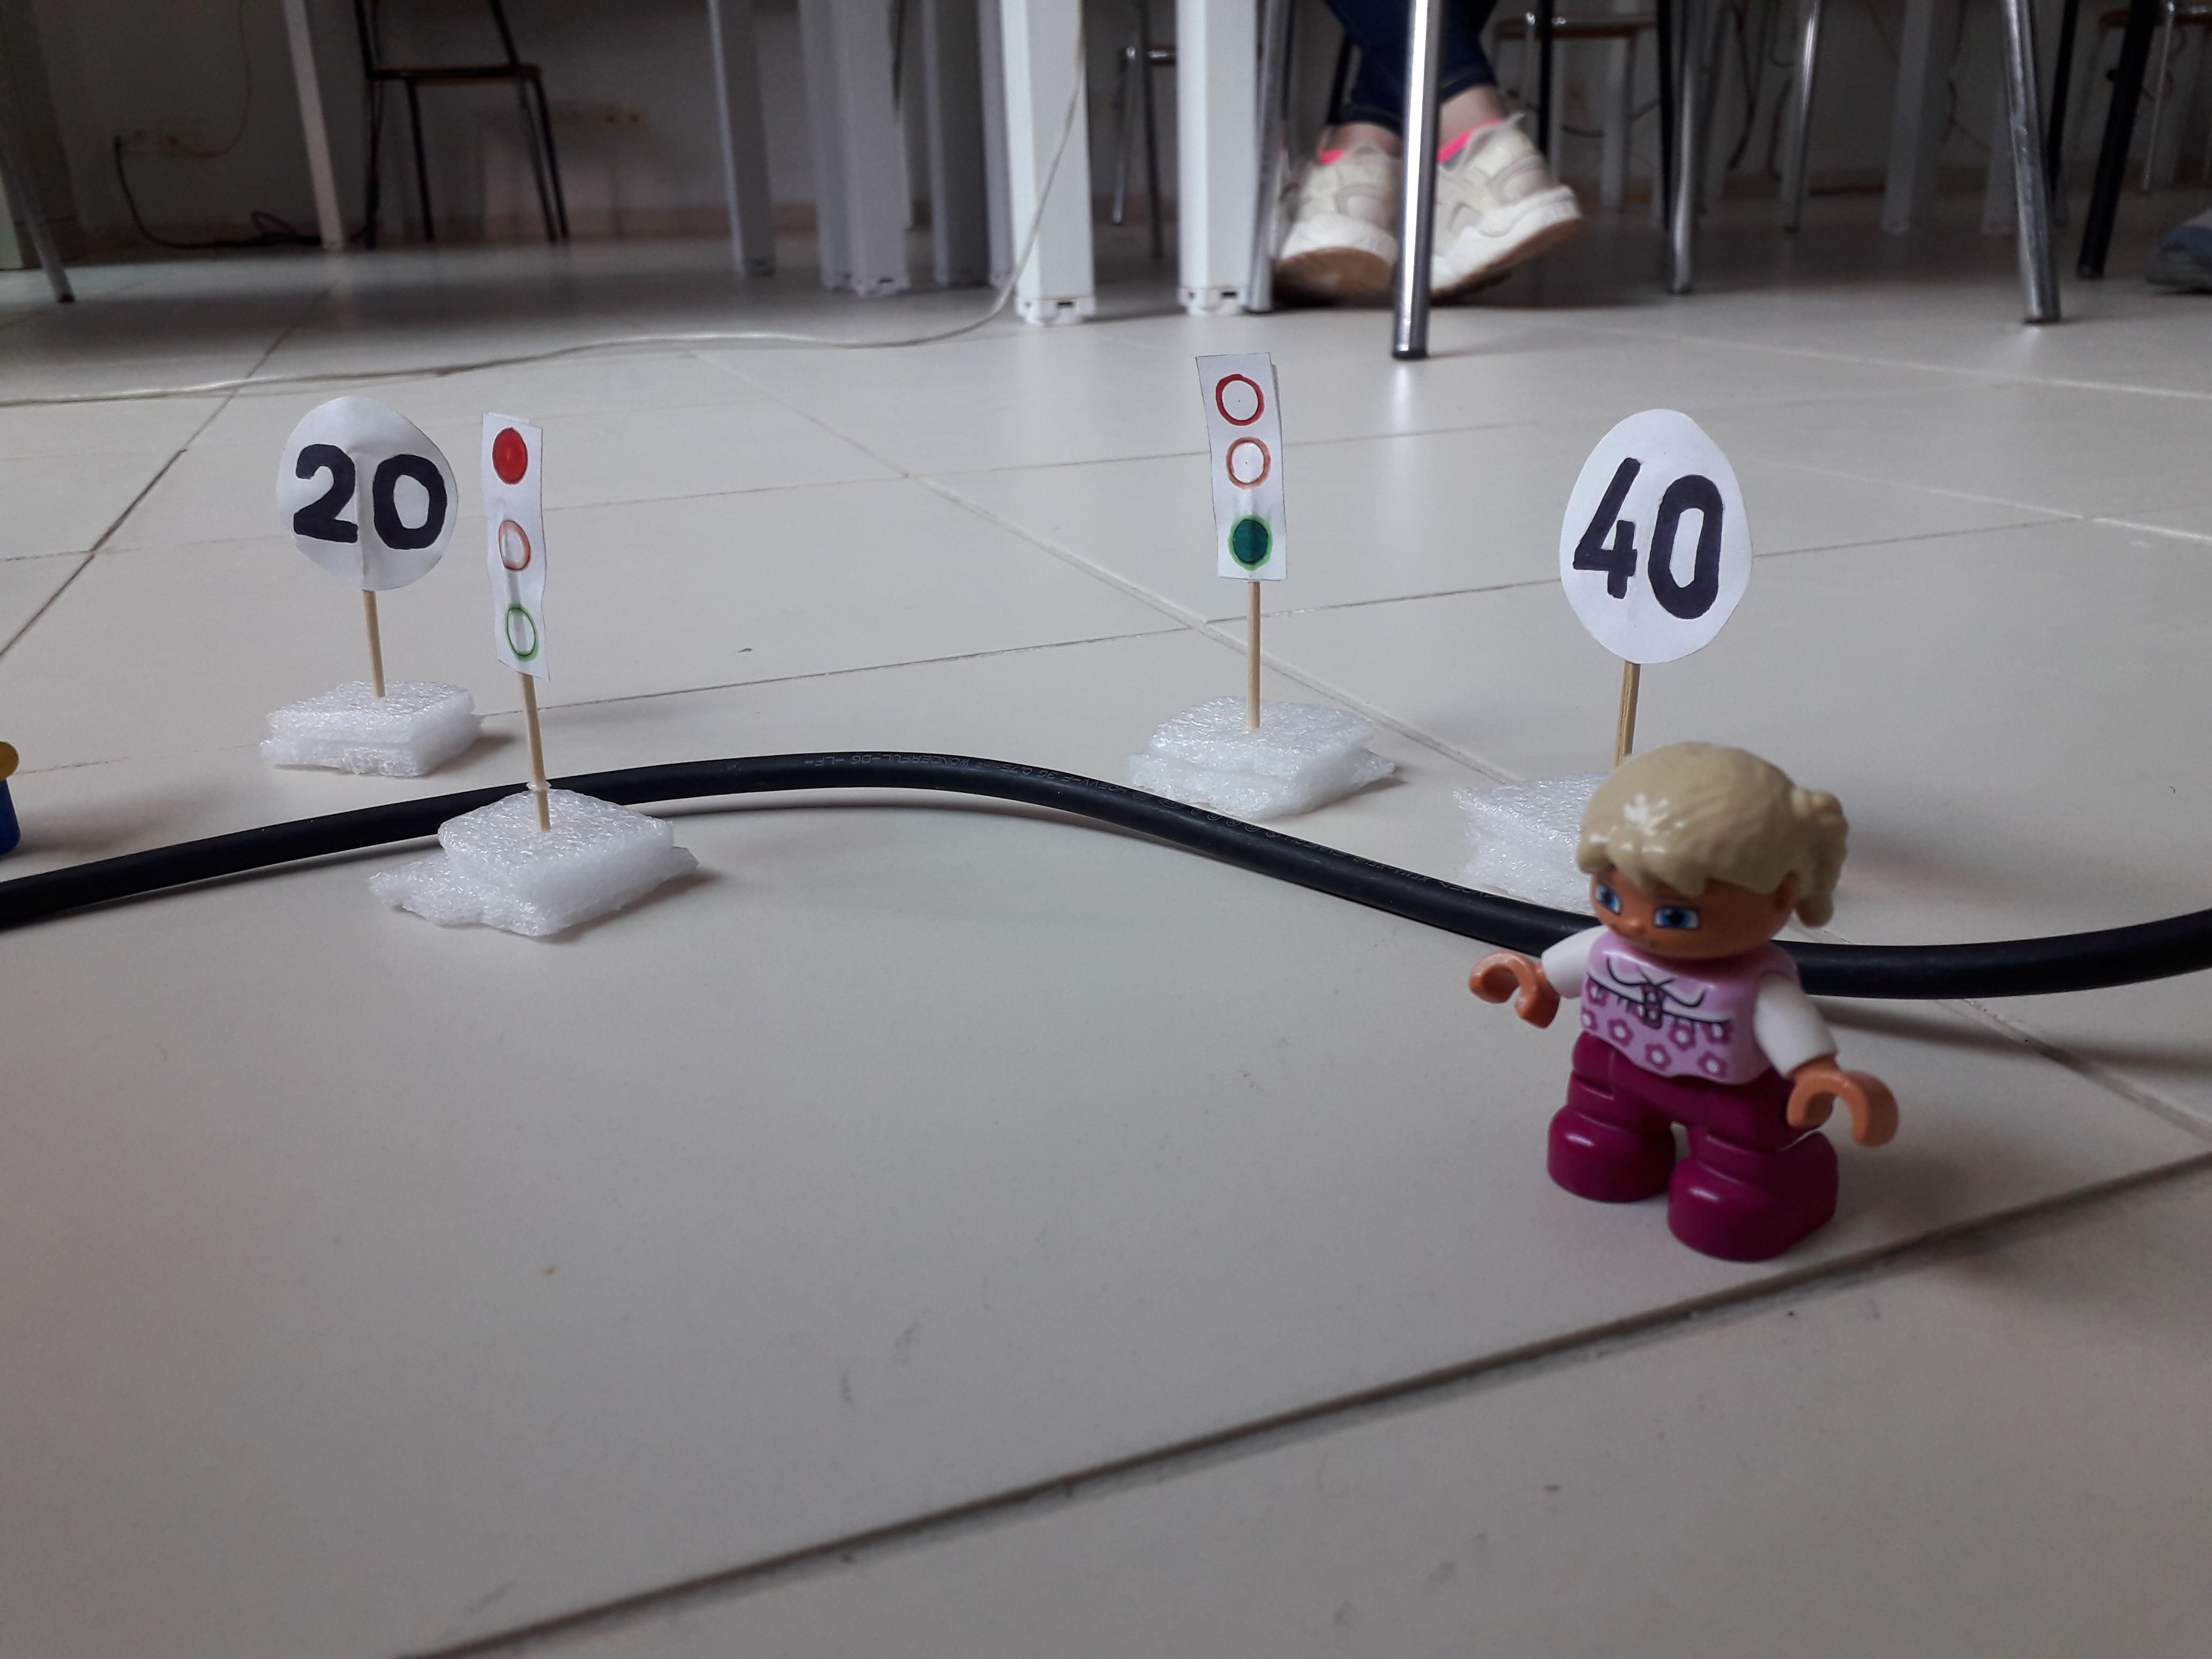20_sign: (270, 393, 459, 589)
40_sign: (1551, 408, 1753, 666)
green_light: (1201, 339, 1294, 579)
person: (1479, 739, 1914, 1263)
red_light: (477, 423, 551, 668)
